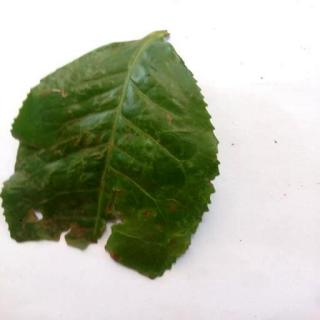Algal Leaf: (1, 29, 222, 282)
